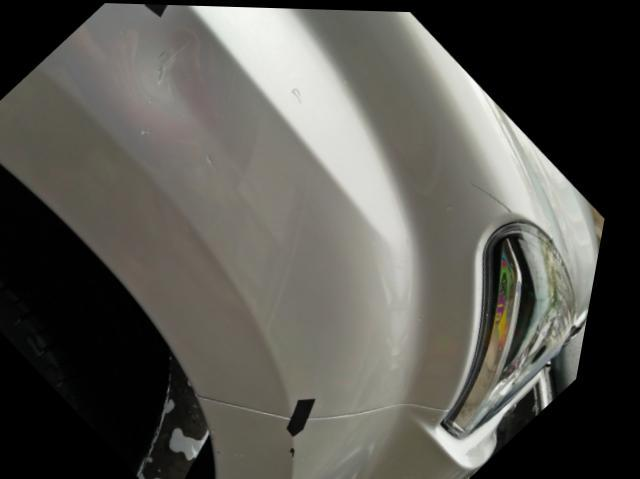dent: (103, 10, 222, 124)
scratch: (473, 177, 517, 208)
